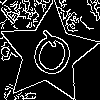Q: (23, 28, 78, 88)
